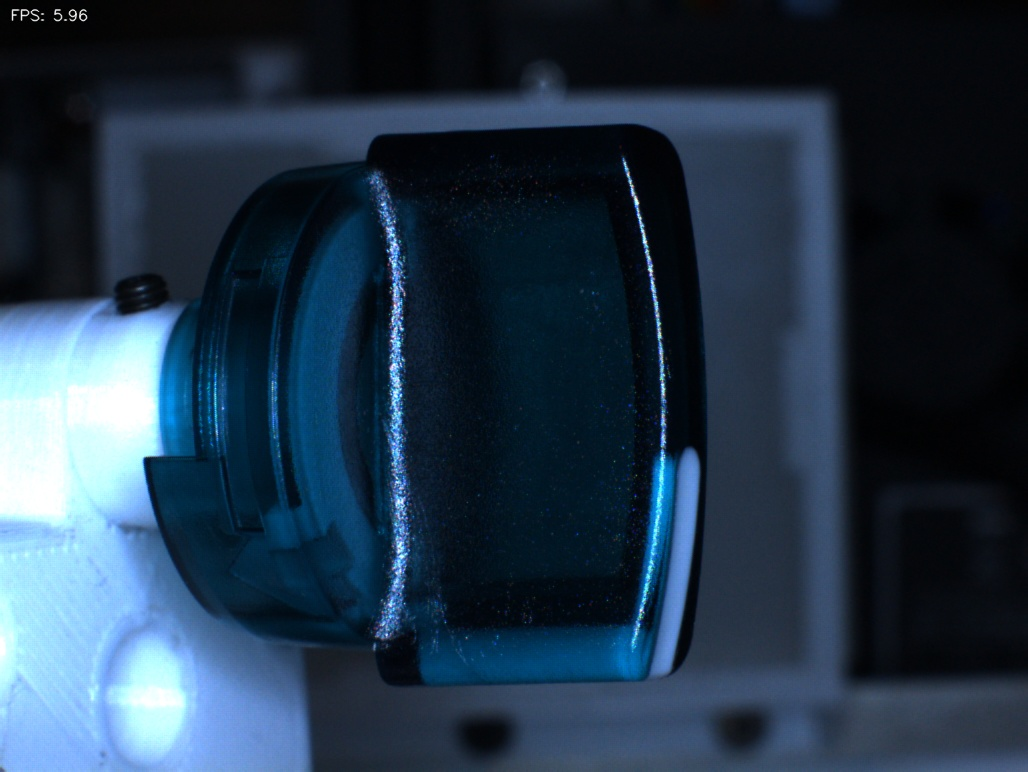Givrage: (396, 470, 461, 643)
